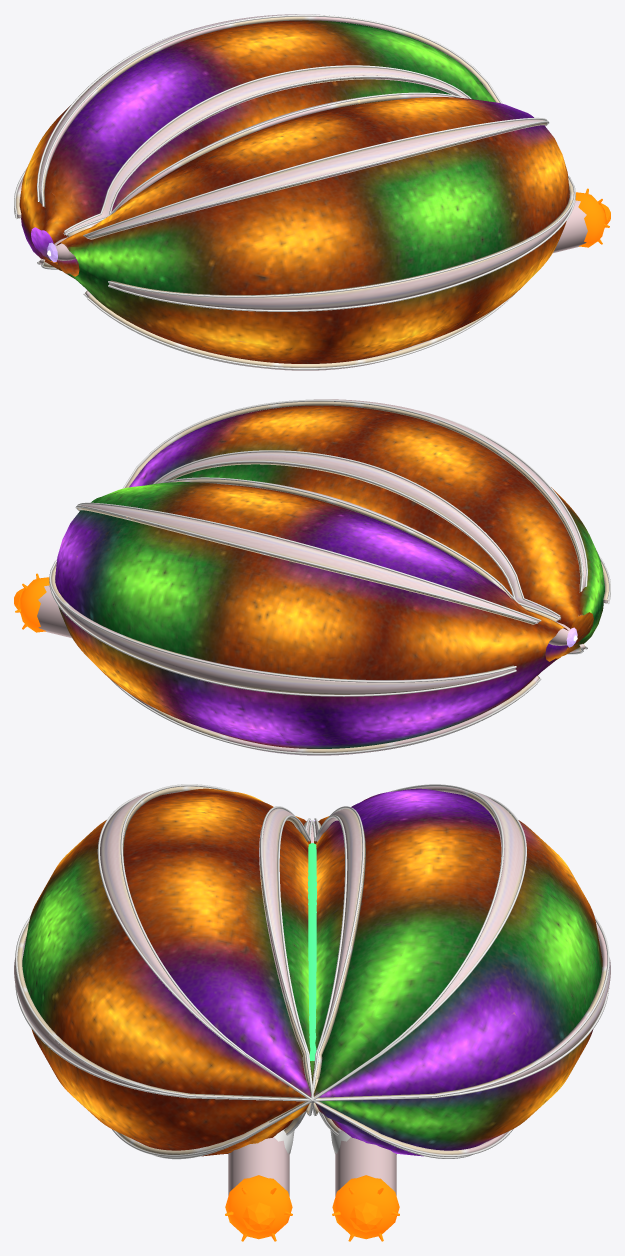
Rendered from ithar_GW4.gltf.
3 renders of one model, top to bottom at view 1: azimuth 30°, elevation 25°; view 2: azimuth 150°, elevation 25°; view 3: azimuth 270°, elevation 25°, orthographic. The views are drawn at different scales.
Visible parts, largest first — view 1: ithar_GW4; view 2: ithar_GW4; view 3: ithar_GW4.
Boxes of the visible parts, x1,y1,x2,y2 form: ithar_GW4: (14,14,610,370); ithar_GW4: (14,399,610,755); ithar_GW4: (14,784,610,1241).
Size of the model in its own units: 1 by 0.3901 by 0.8154.
6 materials, 2 textured.
